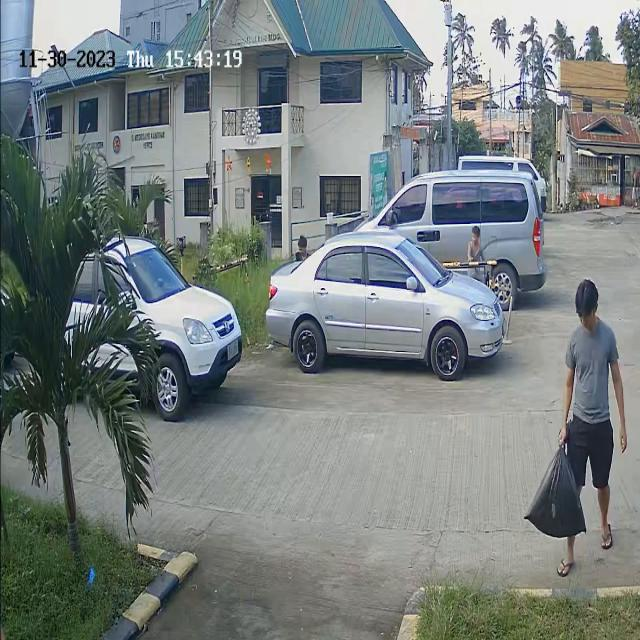garbage: (520, 419, 592, 545)
person: (559, 280, 626, 401)
